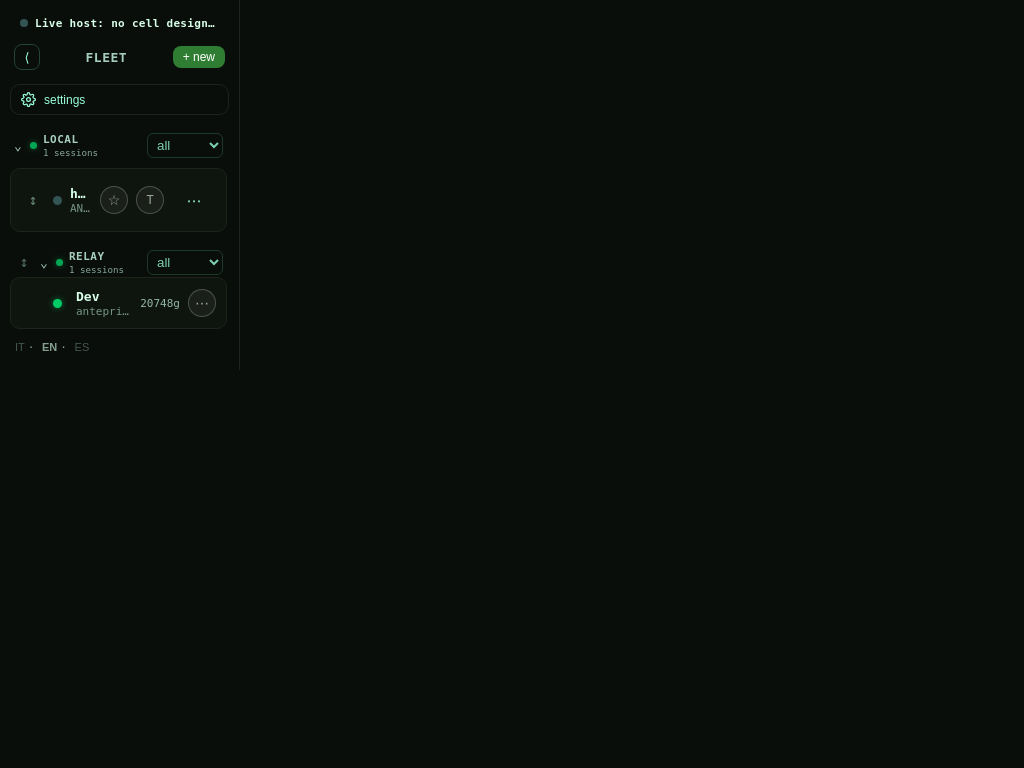
Test: Sidebar session identity › il popup di una cella REMOTA legge la sessione del SUO nodo, non solo il campo della cella
What coordinates should you click on to do the following:
click the button with class "nc-side-peek"
I would click on:
 (58, 303)
Its box is top-left (47, 294), bottom-right (68, 312).
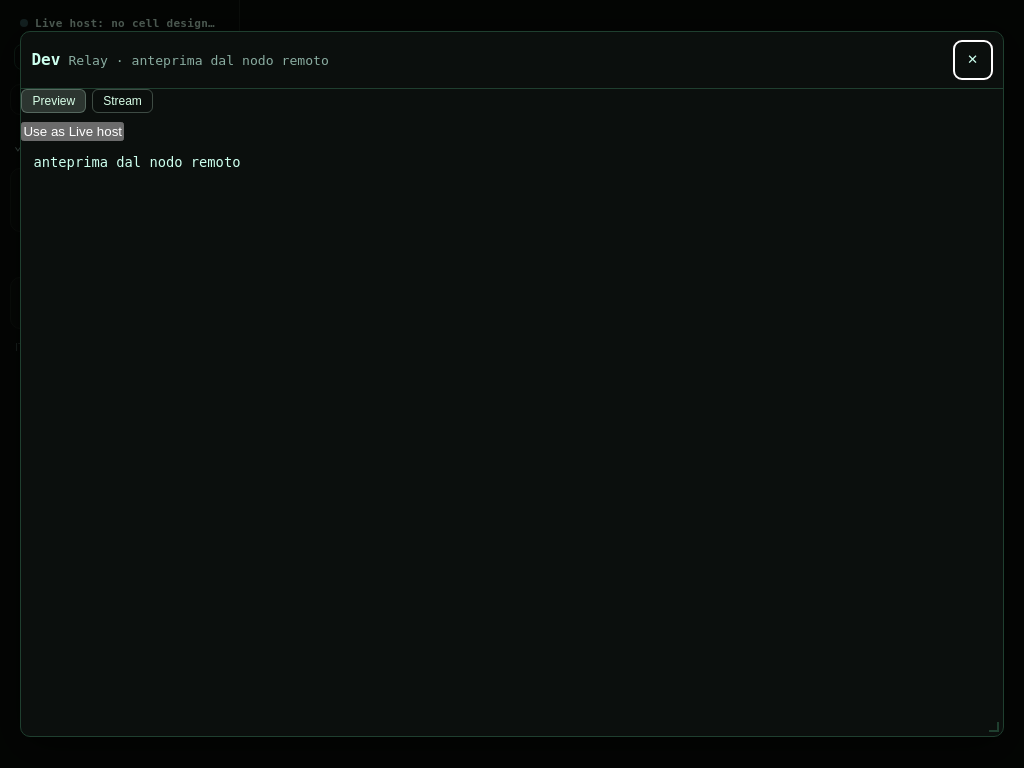
Now the dialog "Dev" is shown
Now the text with class "nc-peek-testo" reads "anteprima dal nodo remoto", box top-left (34, 154), bottom-right (240, 170)
